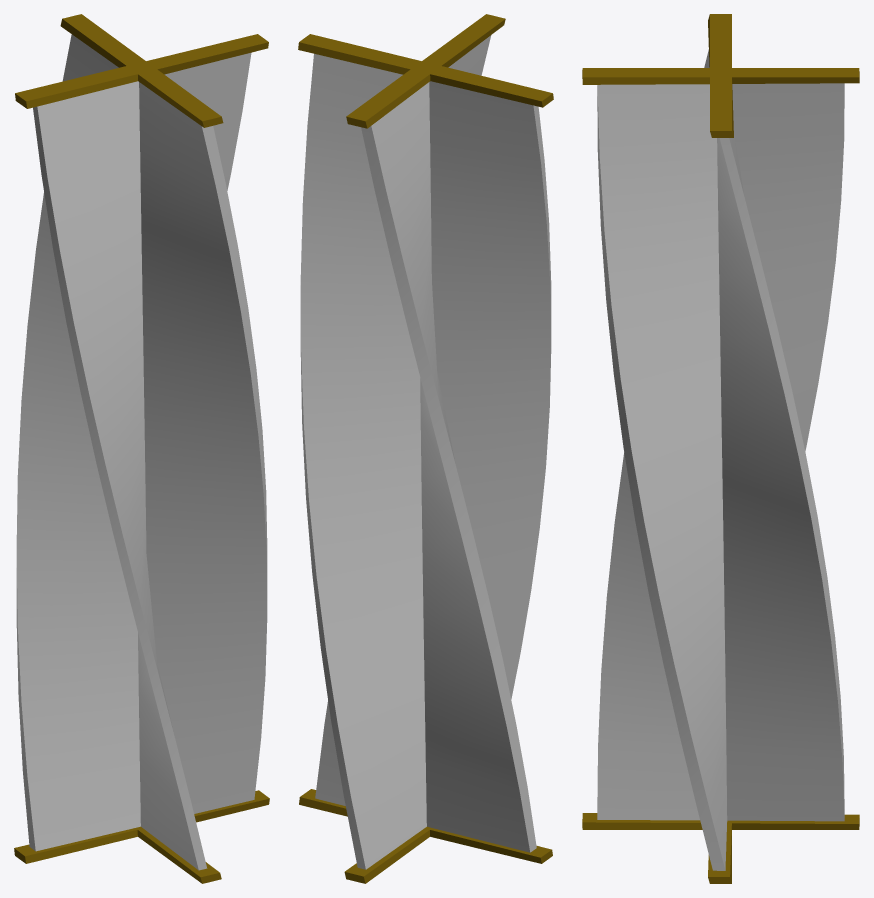
The model's file is E_Short_Grounded_Windmill.fbx.
3 renders of one model, left to right at view 1: azimuth 30°, elevation 25°; view 2: azimuth 150°, elevation 25°; view 3: azimuth 270°, elevation 25°, orthographic.
Parts seen in each view (by area): view 1: E_Short_Grounded_Windmill; view 2: E_Short_Grounded_Windmill; view 3: E_Short_Grounded_Windmill.
Part boxes in pixels (x1,y1,x2,y2): E_Short_Grounded_Windmill: (14, 14, 269, 883); E_Short_Grounded_Windmill: (298, 14, 553, 883); E_Short_Grounded_Windmill: (582, 14, 859, 883).
Bounding box in the file's own units: 0.01 × 0.03 × 0.01.
